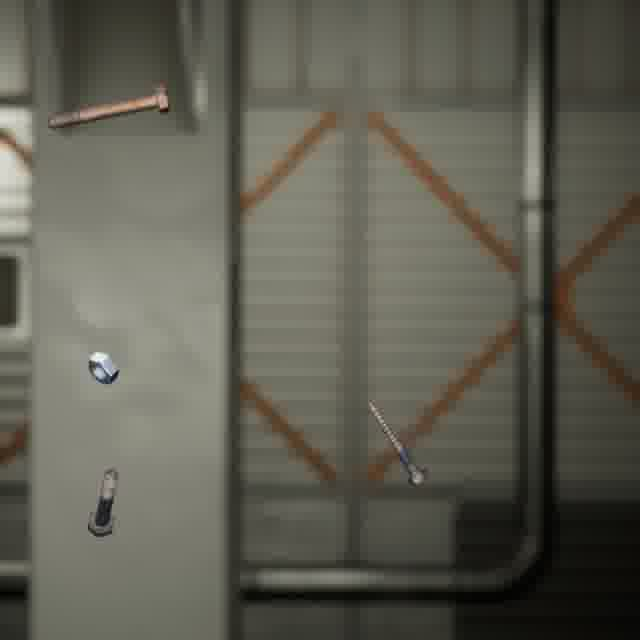bolt: (42, 81, 174, 133), (363, 396, 433, 490), (82, 464, 122, 541)
nut: (82, 347, 123, 389)
